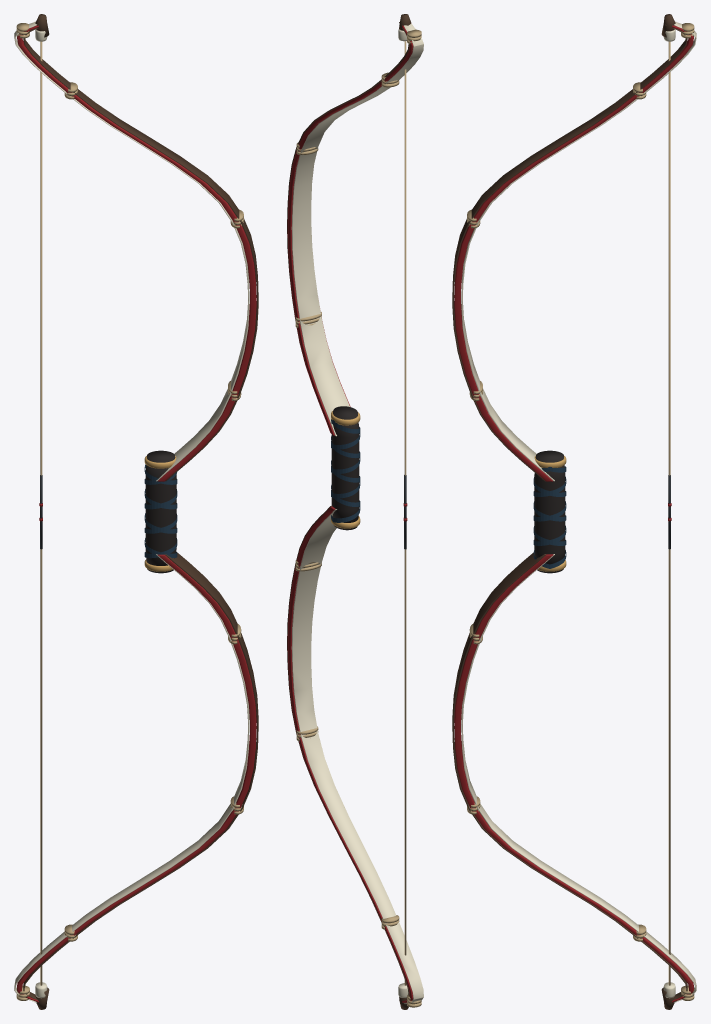
Rendered from weapon_joseon_janggunbow_lod1.glb.
3 views of the same model, side by side, from view 1: azimuth 90°, elevation 25°; view 2: azimuth 210°, elevation 25°; view 3: azimuth 270°, elevation 25° (orthographic).
Parts seen in each view (by area): view 1: Authored_joseon_janggunbow.001; view 2: Authored_joseon_janggunbow.001; view 3: Authored_joseon_janggunbow.001.
Boxes of the visible parts, bbox=[...] form: Authored_joseon_janggunbow.001: bbox=[14, 14, 258, 1009]; Authored_joseon_janggunbow.001: bbox=[287, 14, 423, 1009]; Authored_joseon_janggunbow.001: bbox=[452, 14, 696, 1009].
Size of the model in its own units: 0.0419 by 1.48 by 0.3305.
